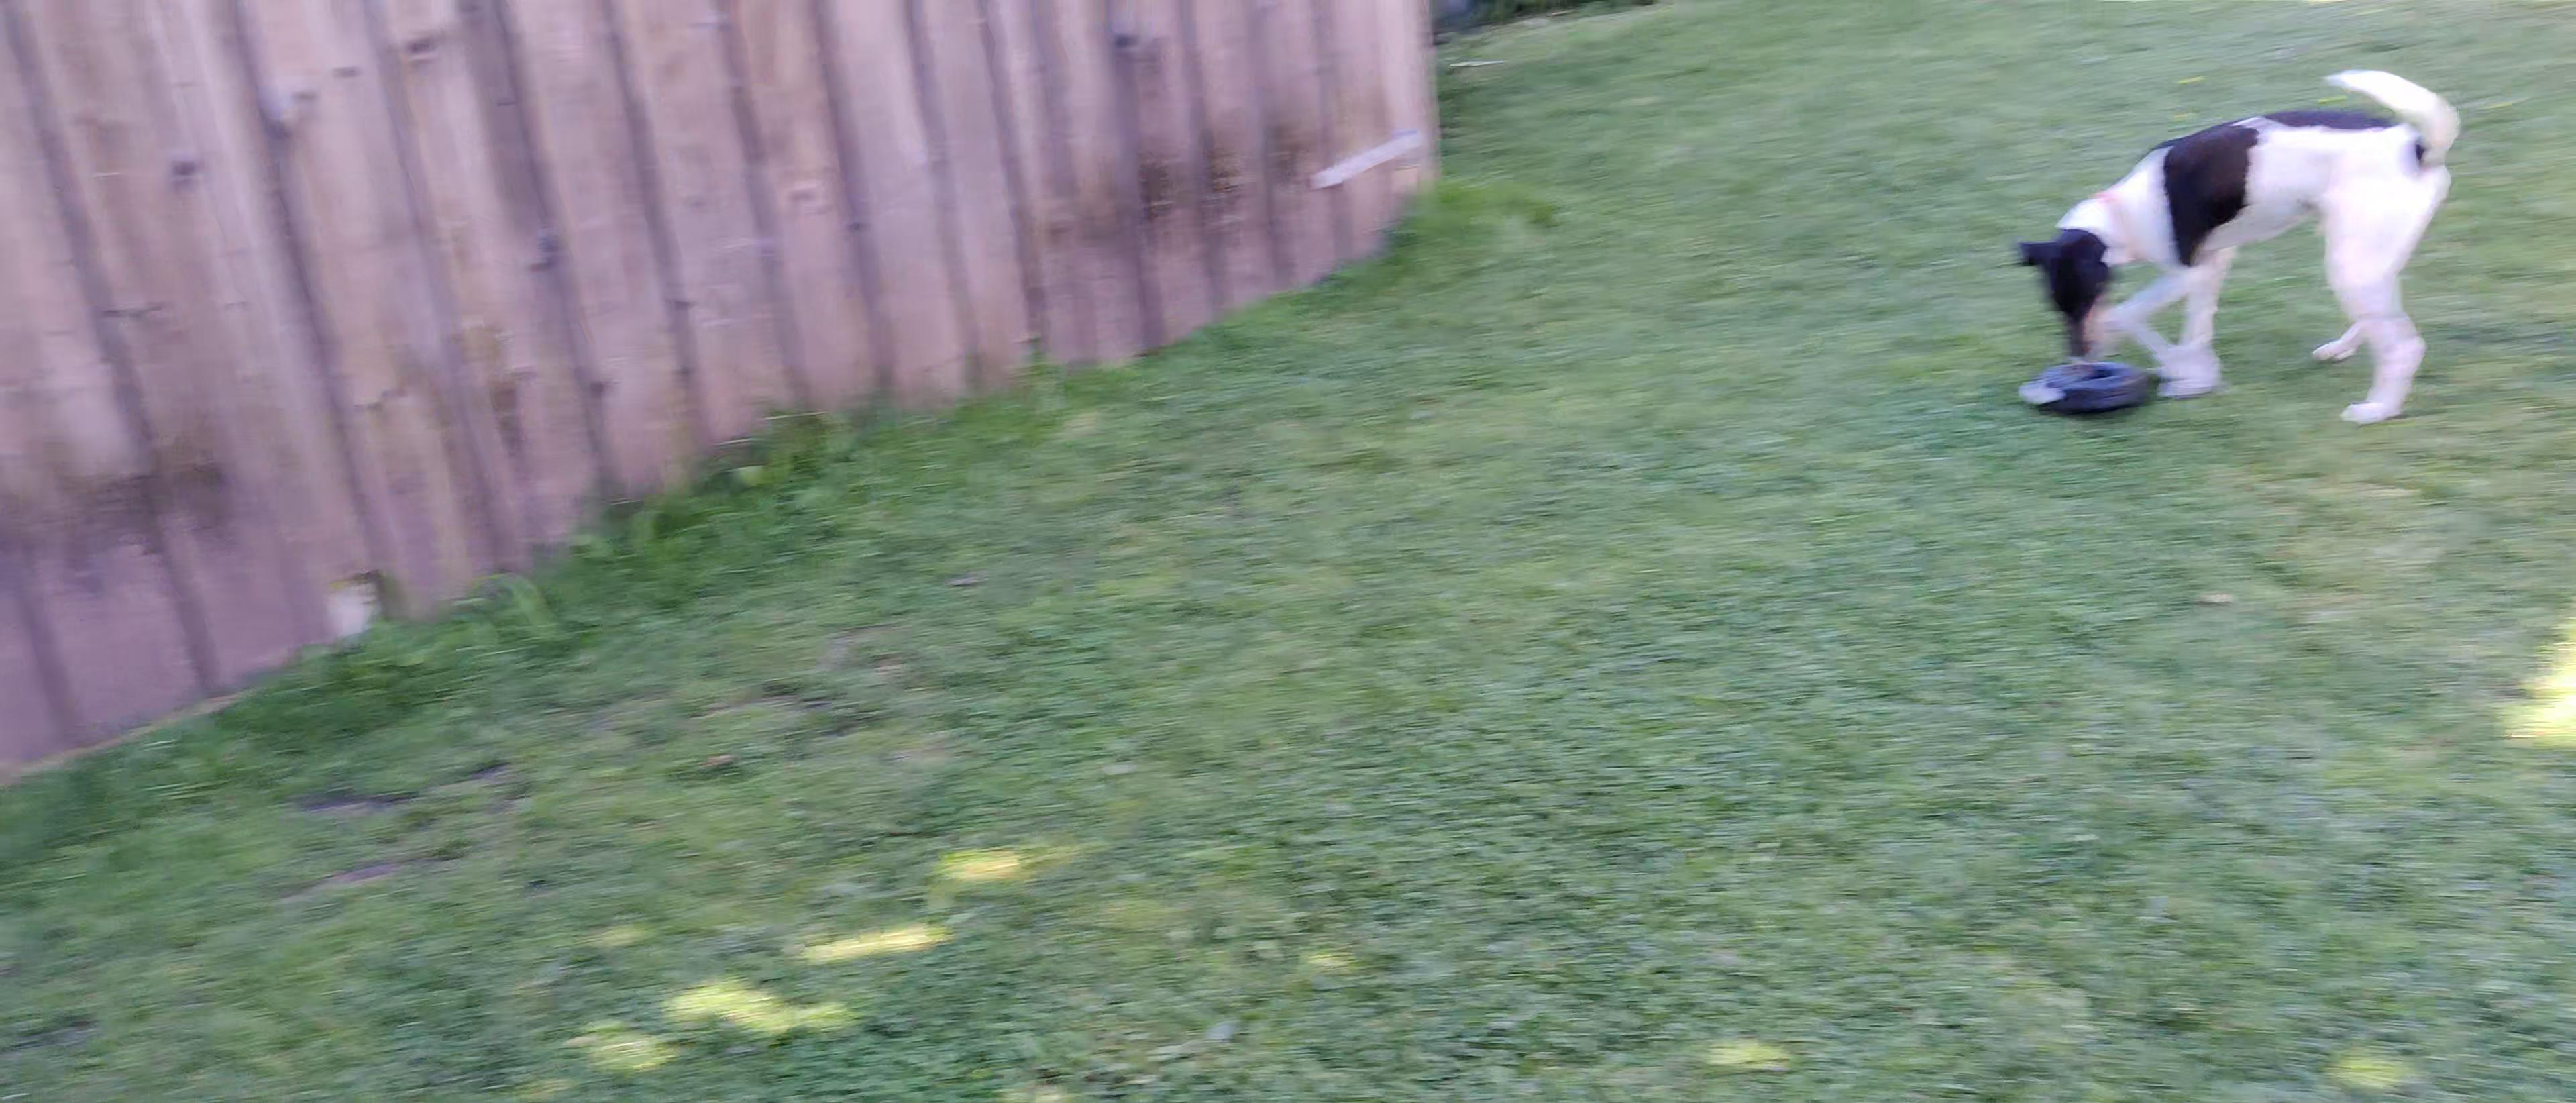Dog: (2014, 69, 2456, 432)
